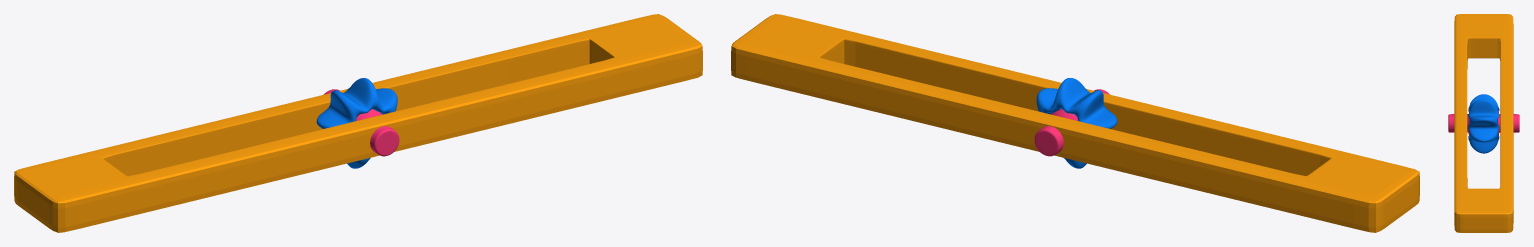
3 renders of one model, left to right at view 1: azimuth 30°, elevation 25°; view 2: azimuth 150°, elevation 25°; view 3: azimuth 270°, elevation 25°, orthographic. The views are drawn at different scales.
Parts seen in each view (by area): view 1: Zemin.001, Knife.010, Merkez.005; view 2: Zemin.001, Knife.010, Merkez.005; view 3: Zemin.001, Knife.010, Merkez.005.
Boxes of the visible parts, box(x1,y1,x2,y2) form: Zemin.001: box(14, 14, 702, 232); Knife.010: box(316, 78, 397, 168); Merkez.005: box(324, 89, 399, 156); Zemin.001: box(731, 14, 1419, 232); Knife.010: box(1036, 78, 1117, 168); Merkez.005: box(1034, 89, 1109, 156); Zemin.001: box(1454, 14, 1513, 232); Knife.010: box(1468, 94, 1499, 153); Merkez.005: box(1448, 110, 1519, 135).
Bounding box in the file's own units: 79.96 × 9.95 × 12.01.
